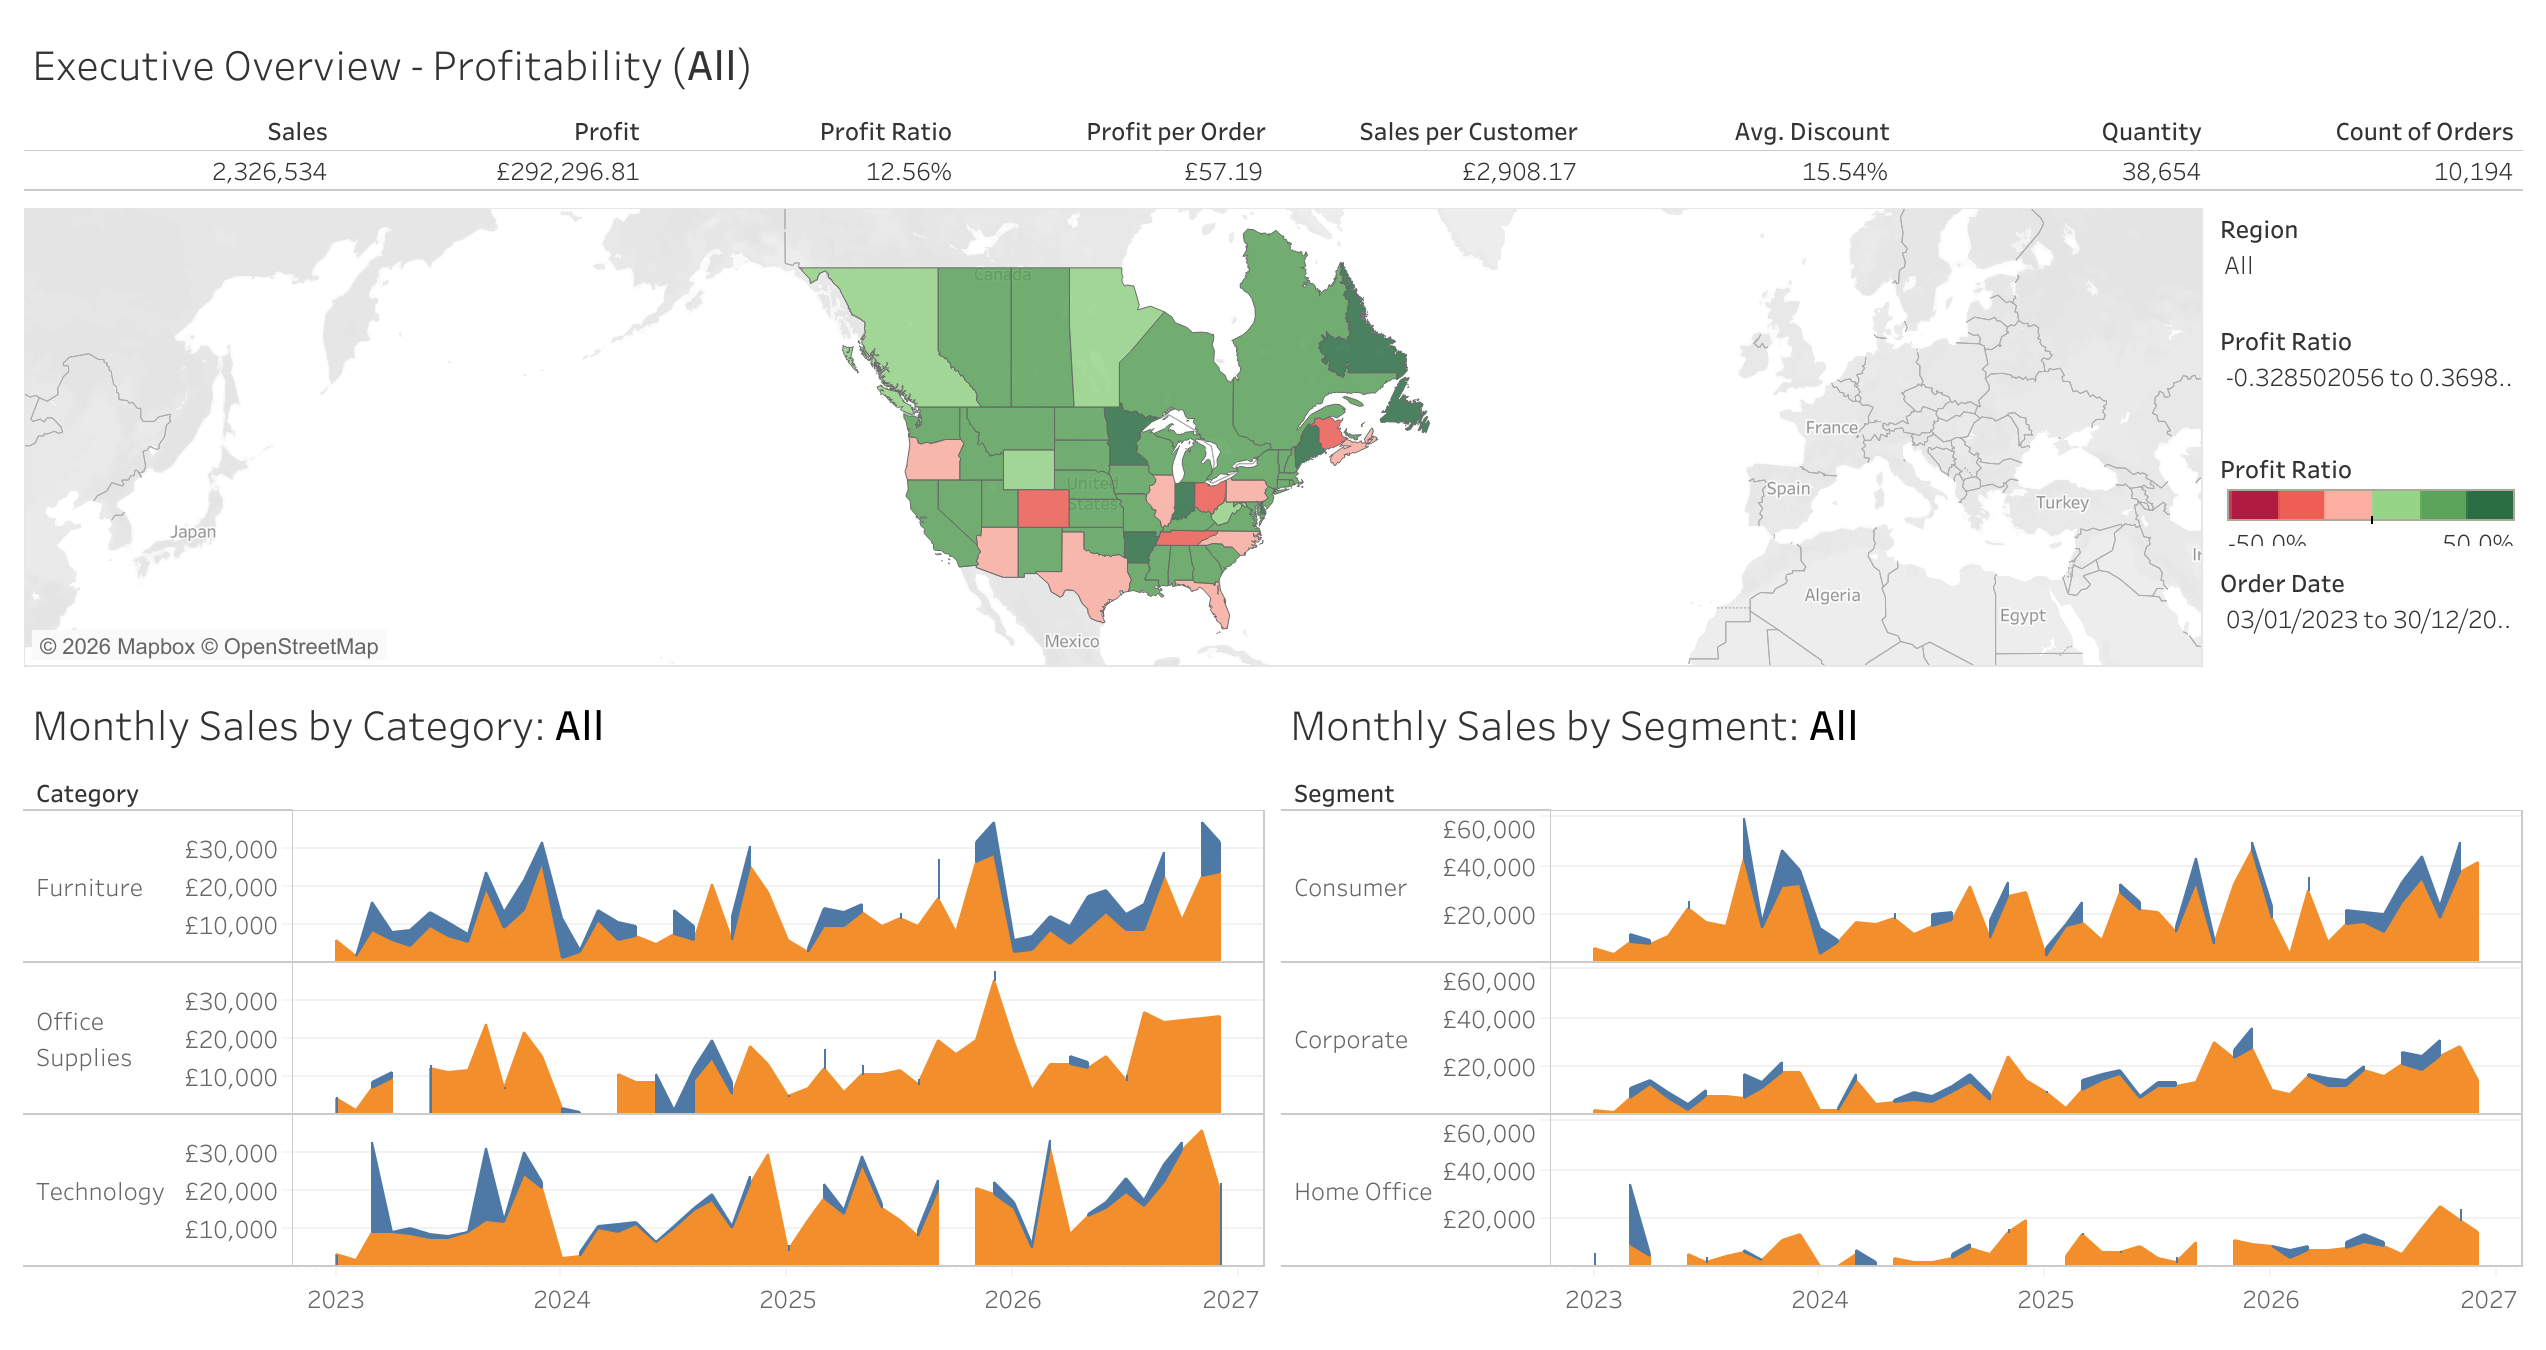

The dashboard page shown, as its layout file describes it:
{"tool":"tableau","page":{"name":"Executive Overview","canvas":[1000,1000],"units":"permille","ordinal":0},"visuals":[{"type":"worksheet","title":"Key Performance Indicators","mark":"Automatic","box":[6.6,11.8,986.8,135.1]},{"type":"worksheet","title":"Profit Ratio by Geography","mark":"Automatic","box":[6.6,146.8,854.4,353.2]},{"type":"filter","title":"Profit Ratio by Geography","param":"[federated.1xrb1ig0scf6ov1fjsrsw0xfbv0v].[none:Region:nk]","box":[861,146.8,132.3,82.2]},{"type":"filter","title":"Profit Ratio by Geography","param":"[federated.1xrb1ig0scf6ov1fjsrsw0xfbv0v].[usr:Calculation_0014784156213293:qk]","box":[861,229.1,132.3,90.3]},{"type":"legend","title":"Profit Ratio by Geography","param":"[federated.1xrb1ig0scf6ov1fjsrsw0xfbv0v].[usr:Calculation_0014784156213293:qk]","box":[861,319.4,132.3,90.3]},{"type":"filter","title":"Sales by Category","param":"[federated.1xrb1ig0scf6ov1fjsrsw0xfbv0v].[none:Order Date:qk]","box":[861,409.7,132.3,90.3]},{"type":"worksheet","title":"Sales by Category","mark":"Area","rows":["Category","Sales"],"cols":["Order Date"],"box":[6.6,500,493.4,488.2]},{"type":"worksheet","title":"Sales by Segment","mark":"Area","rows":["Segment","Sales"],"cols":["Order Date"],"box":[500,500,493.4,488.2]}]}

Visuals, with their boxes on the dashboard's canvas, which has no fixed pixel size, in thousandths of its width and height (x1, y1, x2, y2). These are canvas units, not pixel positions in the 2546x1350 screenshot, which may show the page scaled, cropped or inside an application window:
"Key Performance Indicators" worksheet: bbox(7, 12, 993, 147)
"Profit Ratio by Geography" worksheet: bbox(7, 147, 861, 500)
"Profit Ratio by Geography" filter: bbox(861, 147, 993, 229)
"Profit Ratio by Geography" filter: bbox(861, 229, 993, 319)
"Profit Ratio by Geography" legend: bbox(861, 319, 993, 410)
"Sales by Category" filter: bbox(861, 410, 993, 500)
"Sales by Category" worksheet (Area marks): bbox(7, 500, 500, 988)
"Sales by Segment" worksheet (Area marks): bbox(500, 500, 993, 988)
